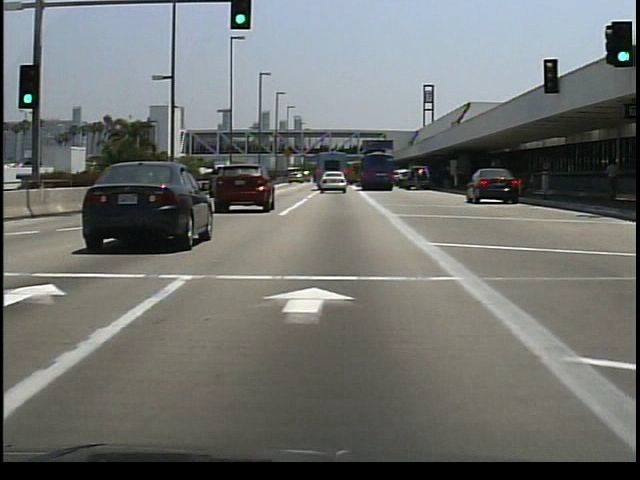person: (599, 157, 621, 209)
